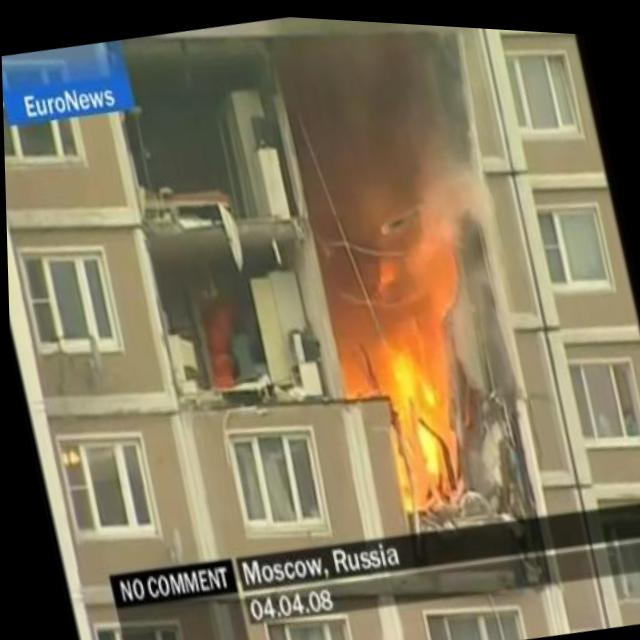fire: (338, 225, 508, 524)
